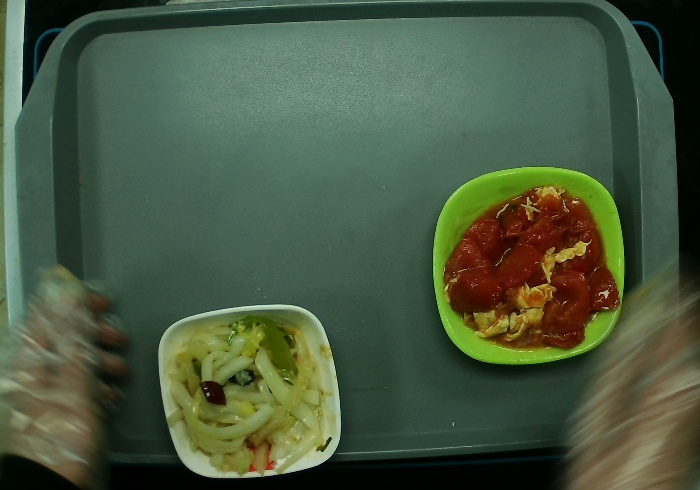SHKJ-Bai_Se_Xiao_Fang_Die: (155, 303, 349, 482)
SHKJ-Lv_Se_Cai_Die: (427, 164, 631, 369)
